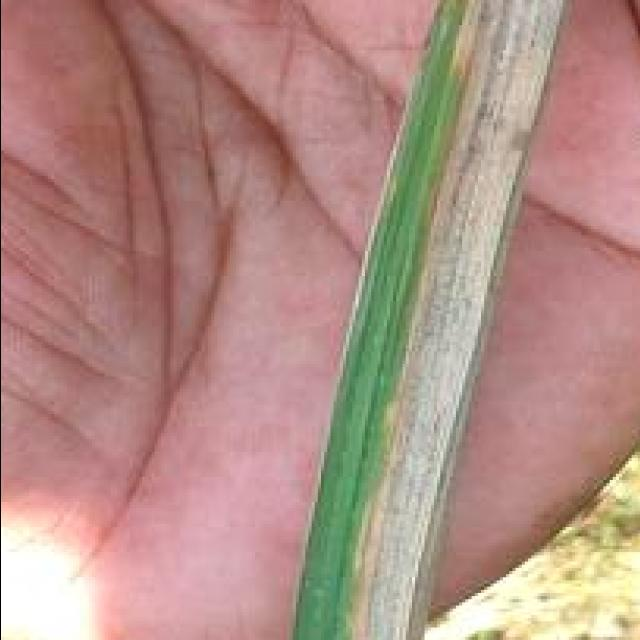Bacterial_Leaf_Blight: (364, 3, 536, 640)
